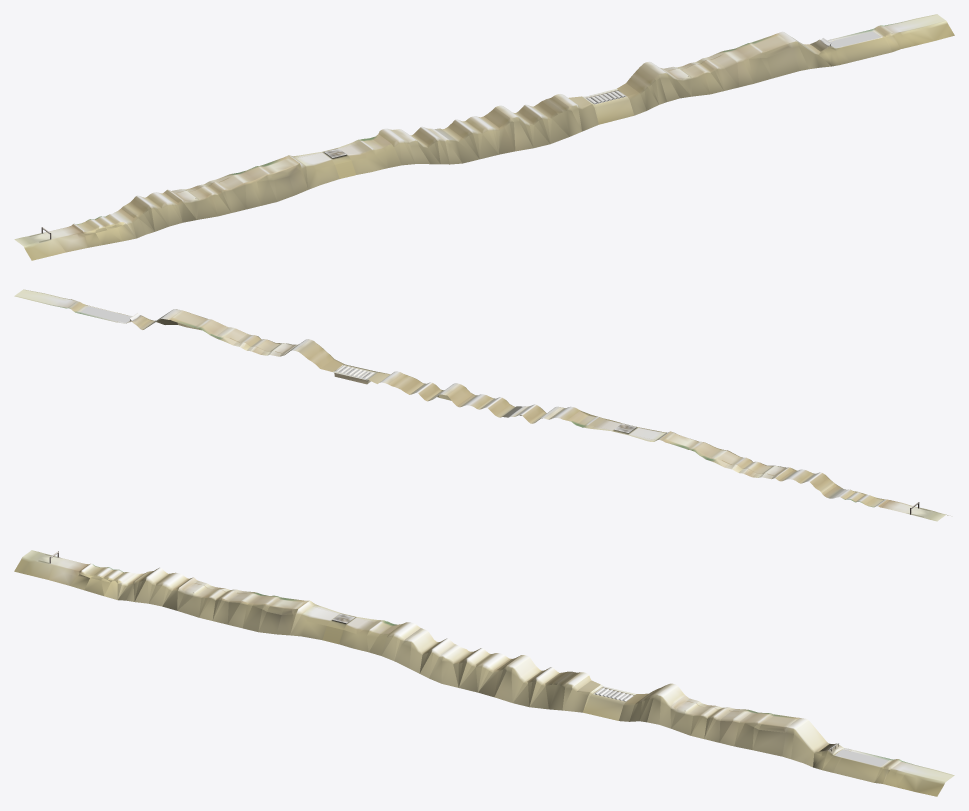
Rendered from Beach_13.fbx.
The picture shows the model from 3 angles, top to bottom: view 1: azimuth 30°, elevation 25°; view 2: azimuth 150°, elevation 25°; view 3: azimuth 330°, elevation 25°; orthographic projection.
Visible parts, largest first — view 1: Road_01; view 2: Road_01, Sea_01; view 3: Road_01.
Part boxes in pixels (left/top/right/bottom): Road_01: left=14, top=14, right=954, bottom=260; Road_01: left=14, top=289, right=948, bottom=521; Sea_01: left=81, top=306, right=370, bottom=380; Road_01: left=14, top=550, right=954, bottom=796.
Bounding box in the file's own units: 80124 × 2947 × 3743.
